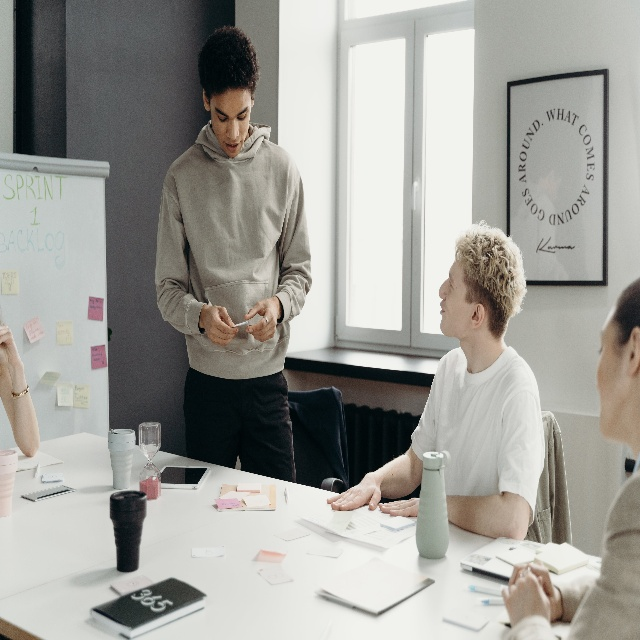Sin_guantes: (500, 555, 563, 621), (327, 474, 383, 514), (203, 304, 238, 346), (244, 298, 280, 338), (376, 493, 421, 520), (0, 332, 19, 373)
